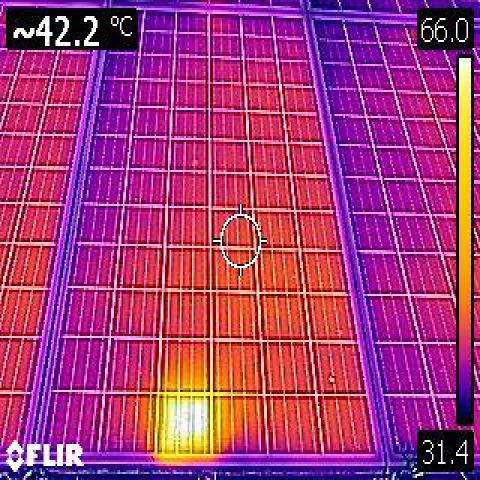fault: (159, 389, 211, 452)
